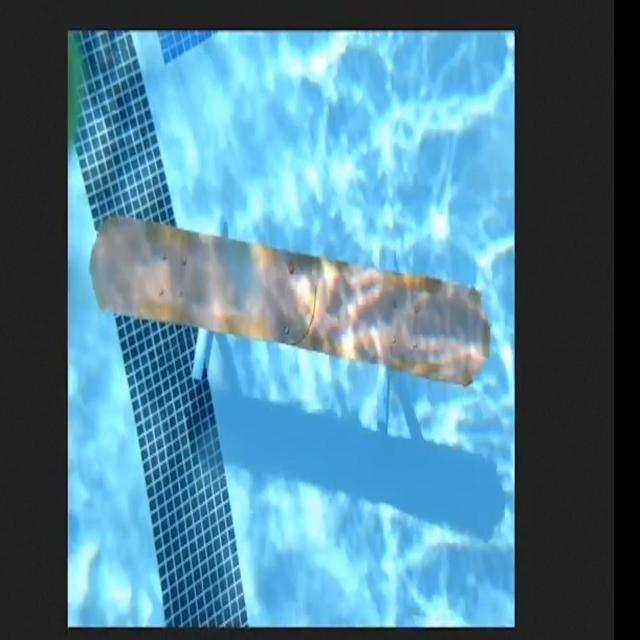Path: (90, 210, 493, 387)
